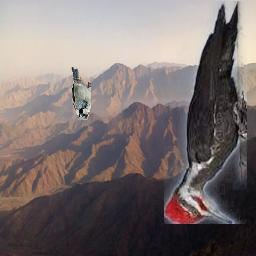Sparrow: (71, 68, 91, 121)
Woodpecker: (165, 2, 248, 225)
